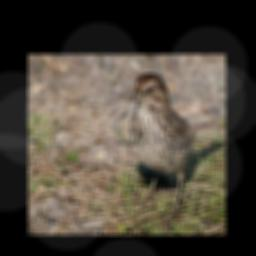Sparrow: (129, 73, 224, 225)
